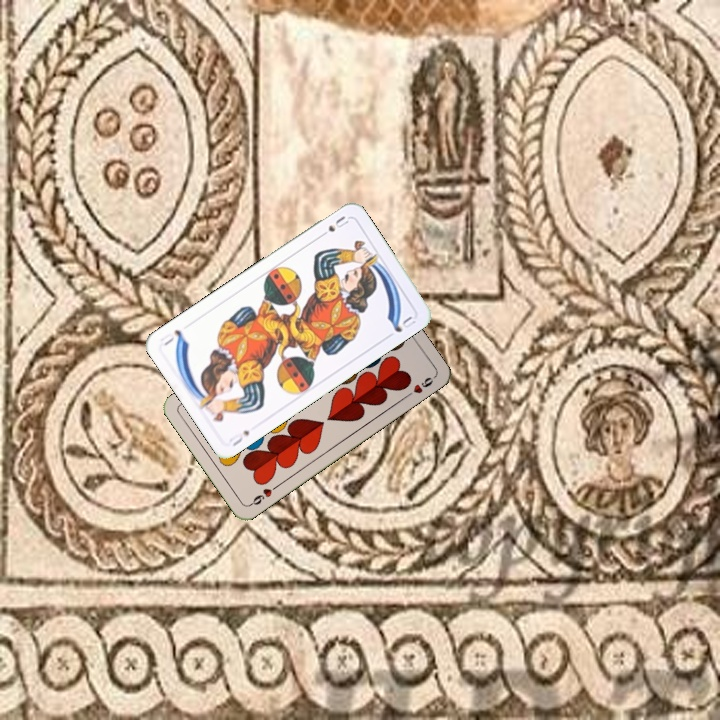H9: (246, 480, 282, 508)
SU: (315, 212, 351, 241), (225, 426, 252, 449)
